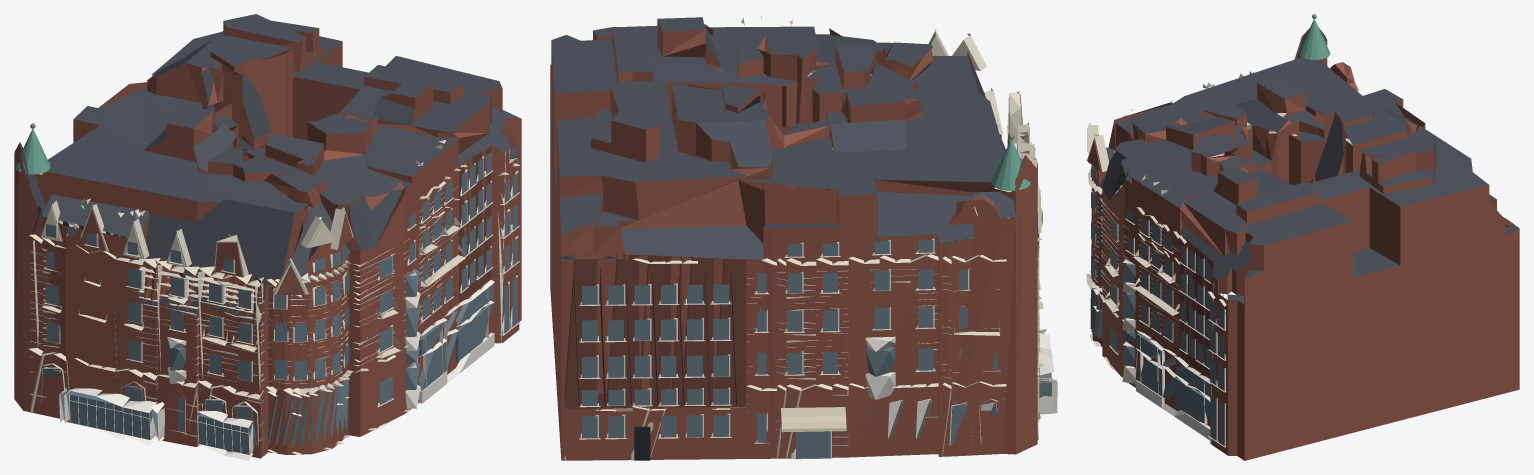
Rendered from hotel-de-l-europe.lod1.glb.
The picture shows the model from 3 angles, left to right: view 1: azimuth 30°, elevation 25°; view 2: azimuth 150°, elevation 25°; view 3: azimuth 270°, elevation 25°; orthographic projection. The views are drawn at different scales.
Parts seen in each view (by area): view 1: hotel-de-l-europe; view 2: hotel-de-l-europe; view 3: hotel-de-l-europe.
Boxes of the visible parts, <box> form: hotel-de-l-europe: <box>14,14,521,460</box>; hotel-de-l-europe: <box>550,16,1057,460</box>; hotel-de-l-europe: <box>1086,14,1519,460</box>.
Bounding box in the file's own units: 52.5 × 29.85 × 46.99.
